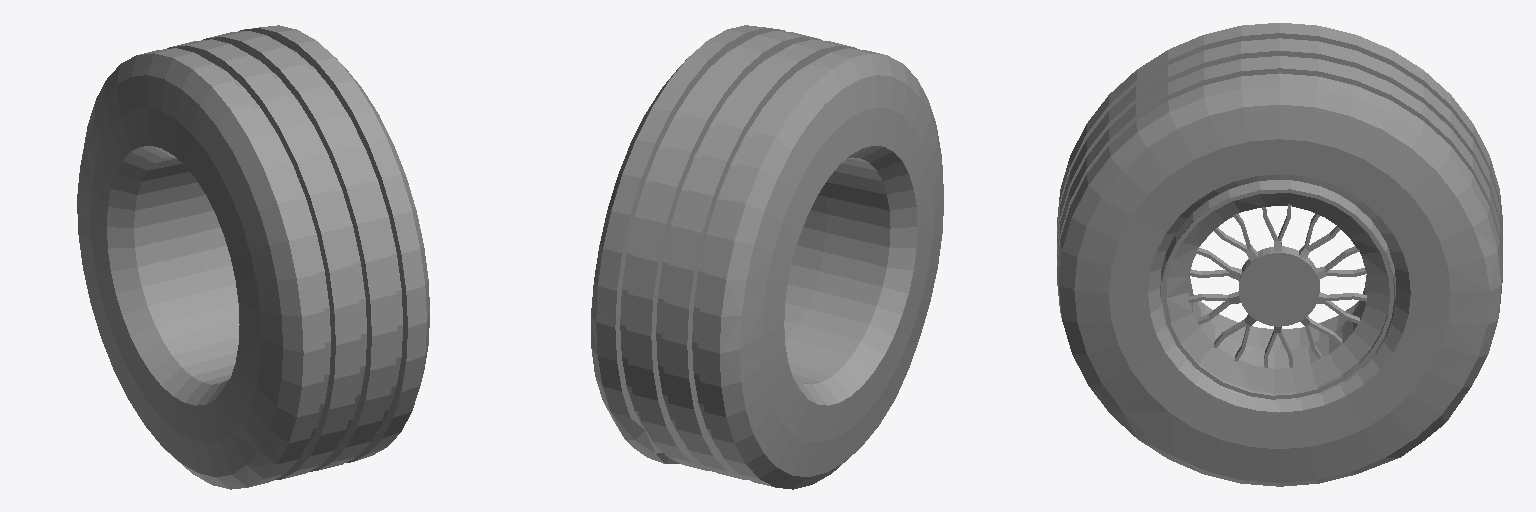
The model's file is wheel_metal_back_A8.obj.
3 views of the same model, side by side, from view 1: azimuth 30°, elevation 25°; view 2: azimuth 150°, elevation 25°; view 3: azimuth 270°, elevation 25° (orthographic).
Parts seen in each view (by area): view 1: Ferrari_wheel_front_R; view 2: Ferrari_wheel_front_R; view 3: Ferrari_wheel_front_R, Ferrari_wheel_front_R_metal.
Boxes of the visible parts, <box> form: Ferrari_wheel_front_R: <box>77,25,429,489</box>; Ferrari_wheel_front_R: <box>591,25,943,489</box>; Ferrari_wheel_front_R: <box>1057,23,1502,486</box>; Ferrari_wheel_front_R_metal: <box>1160,180,1395,401</box>.
Bounding box in the file's own units: 0.2501 × 0.5819 × 0.5823.